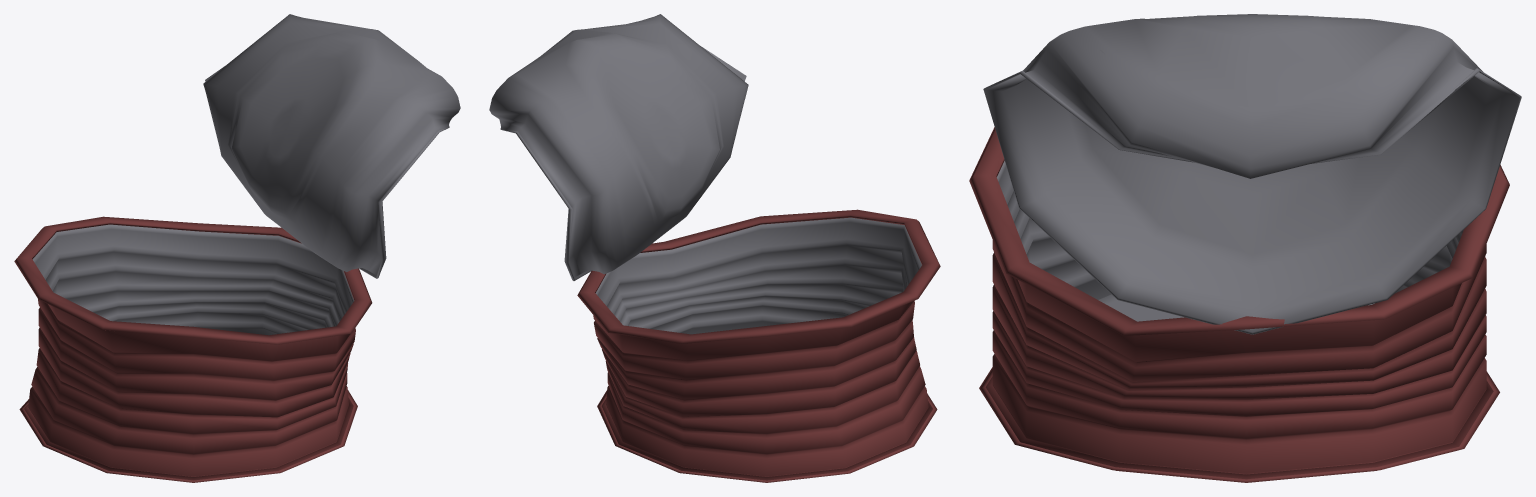
Rendered from LataVermelha.fbx.
3 renders of one model, left to right at view 1: azimuth 30°, elevation 25°; view 2: azimuth 150°, elevation 25°; view 3: azimuth 270°, elevation 25°, orthographic. The views are drawn at different scales.
Visible parts, largest first — view 1: Lata2Amassado.retopo, Tampa2Aberta.retopo; view 2: Lata2Amassado.retopo, Tampa2Aberta.retopo; view 3: Tampa2Aberta.retopo, Lata2Amassado.retopo.
Part boxes in pixels (box(x1,y1,x2,y2)): Lata2Amassado.retopo: box(14, 216, 372, 482); Tampa2Aberta.retopo: box(203, 14, 460, 278); Lata2Amassado.retopo: box(577, 209, 940, 482); Tampa2Aberta.retopo: box(489, 14, 748, 280); Tampa2Aberta.retopo: box(983, 14, 1521, 334); Lata2Amassado.retopo: box(969, 127, 1509, 482).
Size of the model in its own units: 160 by 127 by 126.
